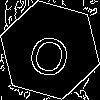O: (25, 25, 76, 80)
